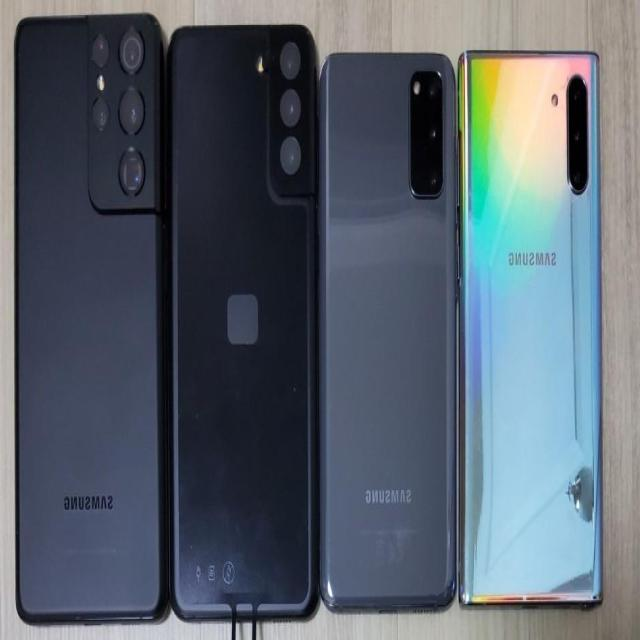mobile: (16, 14, 164, 621), (170, 24, 318, 621), (458, 53, 600, 606), (320, 52, 458, 610)
